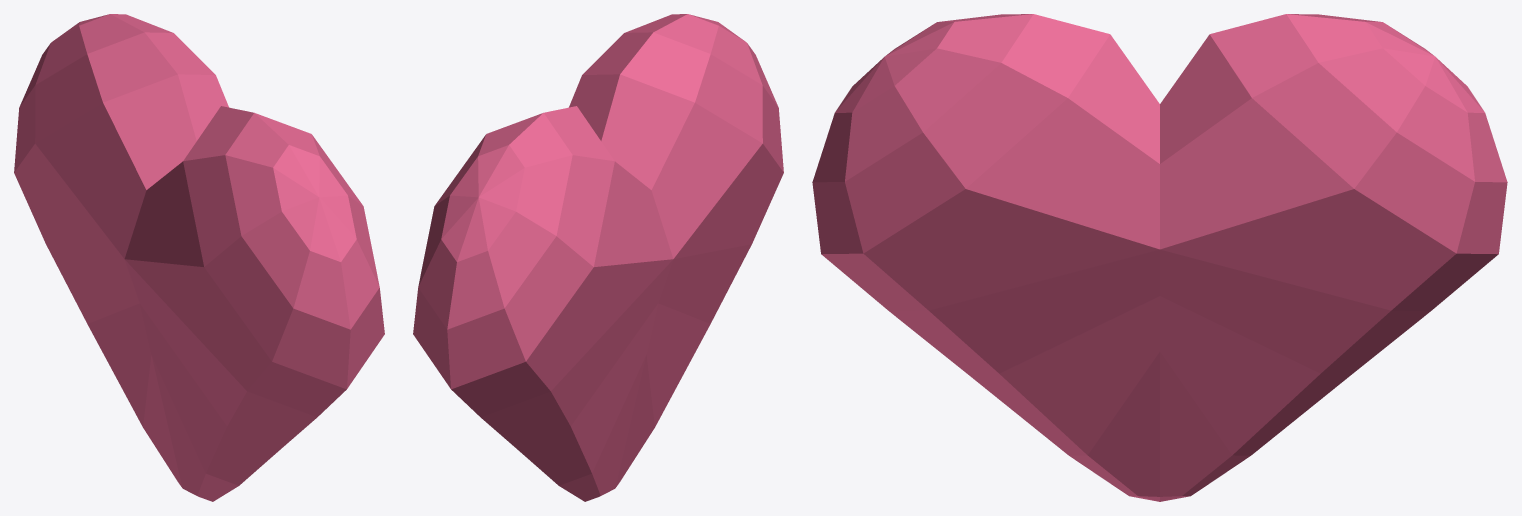
File: bloon3.fbx
3 views of the same model, side by side, from view 1: azimuth 30°, elevation 25°; view 2: azimuth 150°, elevation 25°; view 3: azimuth 270°, elevation 25° (orthographic). The views are drawn at different scales.
Visible parts, largest first — view 1: pSphere9; view 2: pSphere9; view 3: pSphere9.
Part boxes in pixels (x1,y1,x2,y2): pSphere9: [14, 14, 384, 501]; pSphere9: [413, 14, 783, 501]; pSphere9: [812, 14, 1507, 501].
Bounding box in the file's own units: 0.5357 × 1.36 × 1.76.
